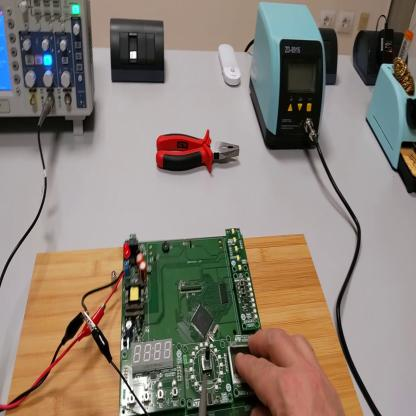hand: (239, 326, 345, 416)
low voltage board: (81, 229, 271, 416)
oscilloscope: (1, 1, 99, 137)
oscilloscope probe tip: (199, 369, 210, 410)
pliers: (155, 128, 241, 176)
socket: (353, 21, 409, 88), (320, 28, 339, 83)
welder base: (365, 30, 416, 195)
welder station: (248, 4, 327, 152)
working area: (7, 216, 365, 416)
